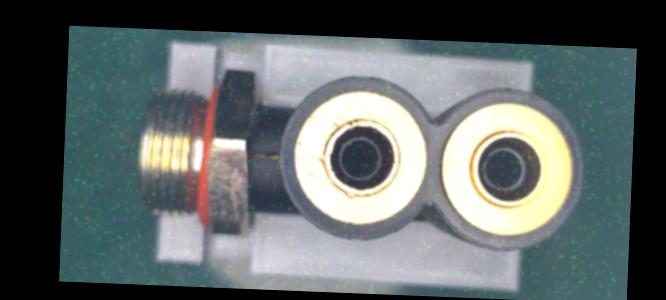craze: (251, 146, 280, 163)
